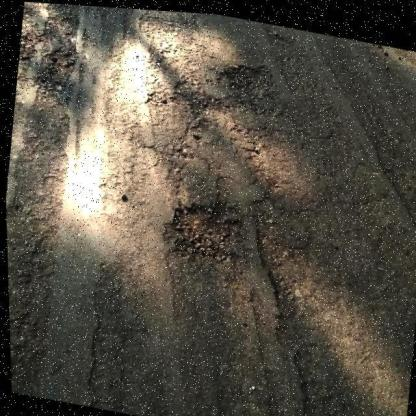pothole: (148, 176, 265, 287), (172, 44, 284, 130), (13, 16, 102, 108)
